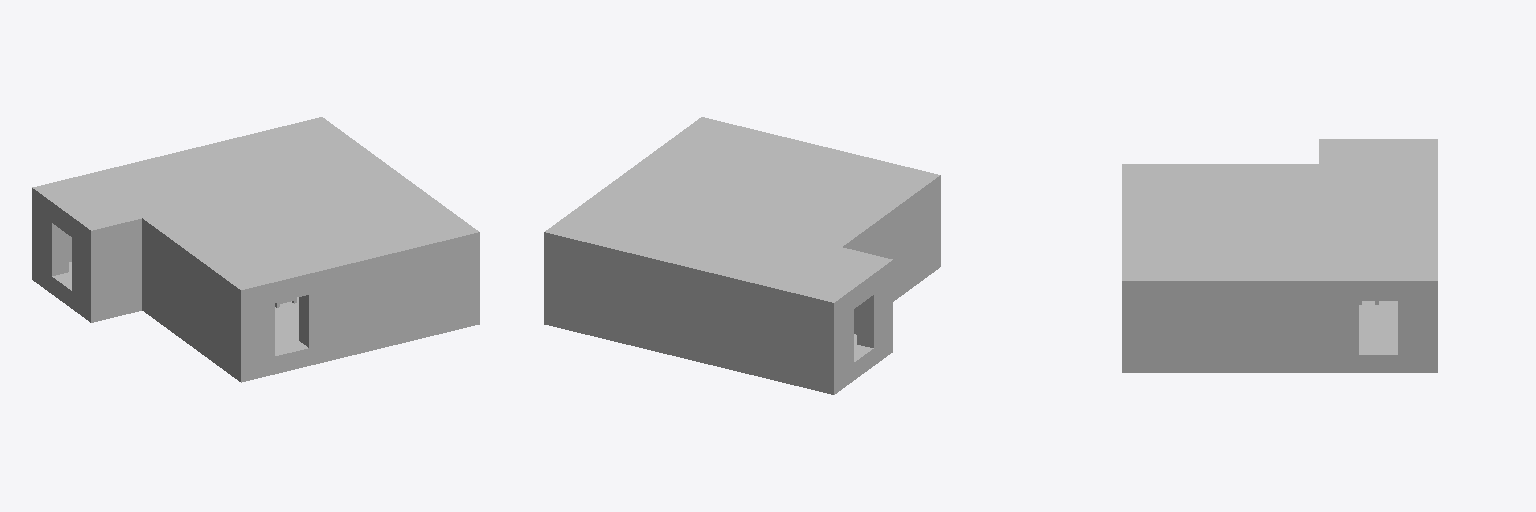
Rendered from small_nathan_roof.obj.
The picture shows the model from 3 angles: view 1: azimuth 30°, elevation 25°; view 2: azimuth 150°, elevation 25°; view 3: azimuth 270°, elevation 25°; orthographic projection.
Parts seen in each view (by area): view 1: object 1; view 2: object 1; view 3: object 1.
Part boxes in pixels (x1,y1,x2,y2): object 1: (32, 117, 479, 382); object 1: (544, 117, 940, 394); object 1: (1122, 139, 1437, 372).
Bounding box in the file's own units: 10.2 × 3.1 × 9.6.